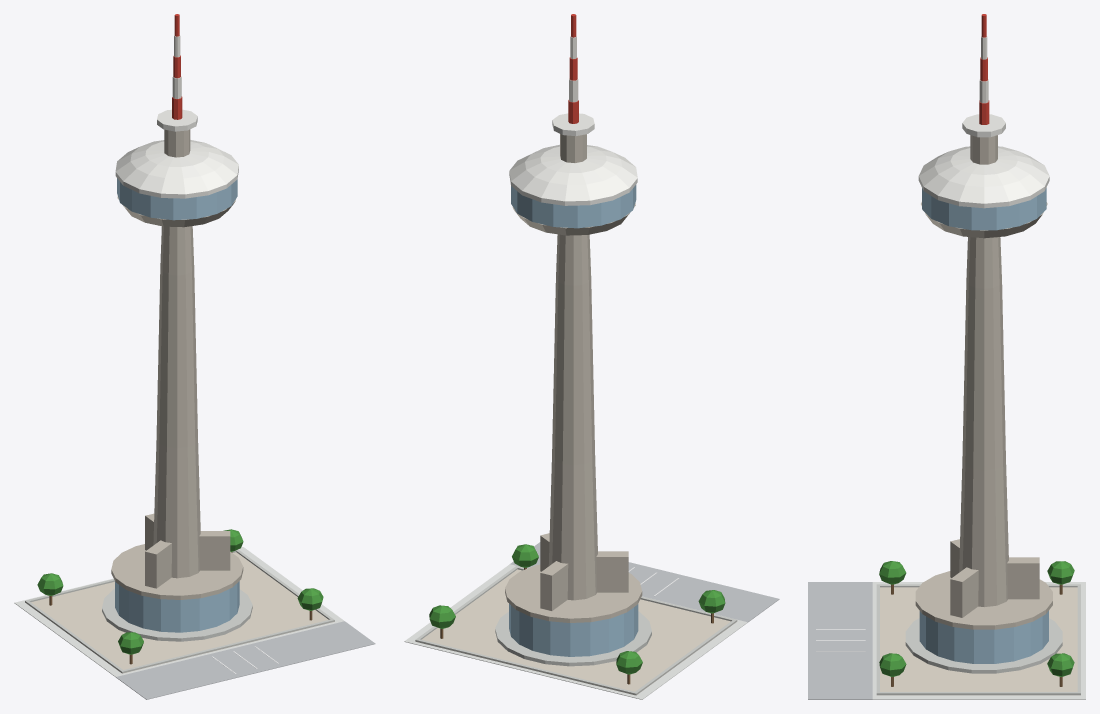
File: obstower.glb
3 renders of one model, left to right at view 1: azimuth 30°, elevation 25°; view 2: azimuth 150°, elevation 25°; view 3: azimuth 270°, elevation 25°, orthographic. The views are drawn at different scales.
Visible parts, largest first — view 1: obstower; view 2: obstower; view 3: obstower.
Boxes of the visible parts, box(x1,y1,x2,y2) form: obstower: box(14, 14, 375, 699); obstower: box(404, 14, 779, 699); obstower: box(808, 14, 1085, 699).
Bounding box in the file's own units: 28 × 69.6 × 28.
